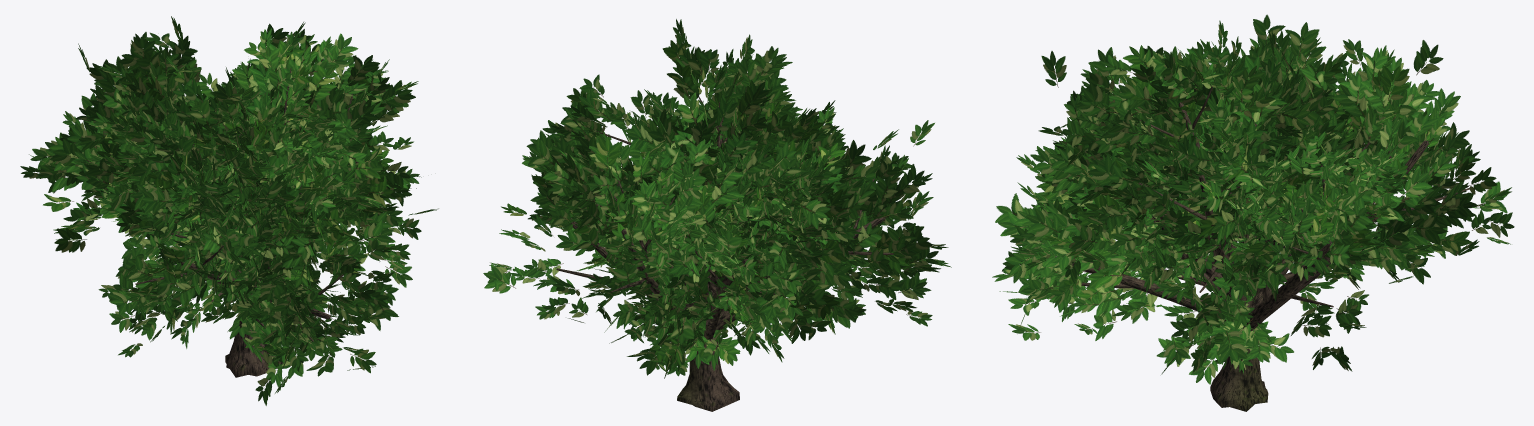
Rendered from himalayan-oak-buk_lod1.glb.
3 renders of one model, left to right at view 1: azimuth 30°, elevation 25°; view 2: azimuth 150°, elevation 25°; view 3: azimuth 270°, elevation 25°, orthographic. The views are drawn at different scales.
Parts seen in each view (by area): view 1: Oak_C_LOD1_Leaves, Oak_A_LOD1_Leaves, Oak_B_LOD1_Leaves, Oak_C_LOD1_Trunk, Oak_C_LOD1_Branches, Oak_A_LOD1_Trunk; view 2: Oak_C_LOD1_Leaves, Oak_B_LOD1_Leaves, Oak_A_LOD1_Leaves, Oak_C_LOD1_Branches, Oak_C_LOD1_Trunk, Oak_A_LOD1_Trunk; view 3: Oak_C_LOD1_Leaves, Oak_A_LOD1_Leaves, Oak_B_LOD1_Leaves, Oak_C_LOD1_Branches, Oak_C_LOD1_Trunk, Oak_A_LOD1_Branches, Oak_B_LOD1_Trunk, Oak_B_LOD1_Branches.
Part boxes in pixels (<box>): Oak_C_LOD1_Leaves: <box>20,16,398,405</box>; Oak_A_LOD1_Leaves: <box>98,22,438,348</box>; Oak_B_LOD1_Leaves: <box>76,28,394,271</box>; Oak_C_LOD1_Trunk: <box>226,321,282,376</box>; Oak_C_LOD1_Branches: <box>87,93,347,341</box>; Oak_A_LOD1_Trunk: <box>225,286,269,377</box>; Oak_C_LOD1_Leaves: <box>483,107,951,378</box>; Oak_B_LOD1_Leaves: <box>615,19,878,310</box>; Oak_A_LOD1_Leaves: <box>526,74,874,362</box>; Oak_C_LOD1_Branches: <box>556,178,893,339</box>; Oak_C_LOD1_Trunk: <box>677,334,729,406</box>; Oak_A_LOD1_Trunk: <box>693,344,739,411</box>; Oak_C_LOD1_Leaves: <box>992,39,1514,384</box>; Oak_A_LOD1_Leaves: <box>1030,46,1407,374</box>; Oak_B_LOD1_Leaves: <box>1038,14,1367,330</box>; Oak_C_LOD1_Branches: <box>1036,140,1469,330</box>; Oak_C_LOD1_Trunk: <box>1210,356,1268,407</box>; Oak_A_LOD1_Branches: <box>1138,163,1354,307</box>; Oak_B_LOD1_Trunk: <box>1228,293,1254,411</box>; Oak_B_LOD1_Branches: <box>1139,81,1256,264</box>.
Size of the model in its own units: 33.47 by 29.57 by 37.02.
2 materials, 2 textured.
